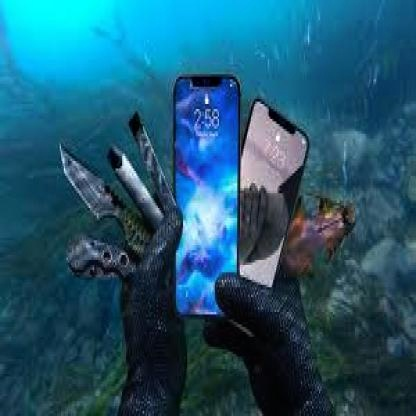cellphone: (200, 94, 312, 342), (172, 74, 241, 320)
